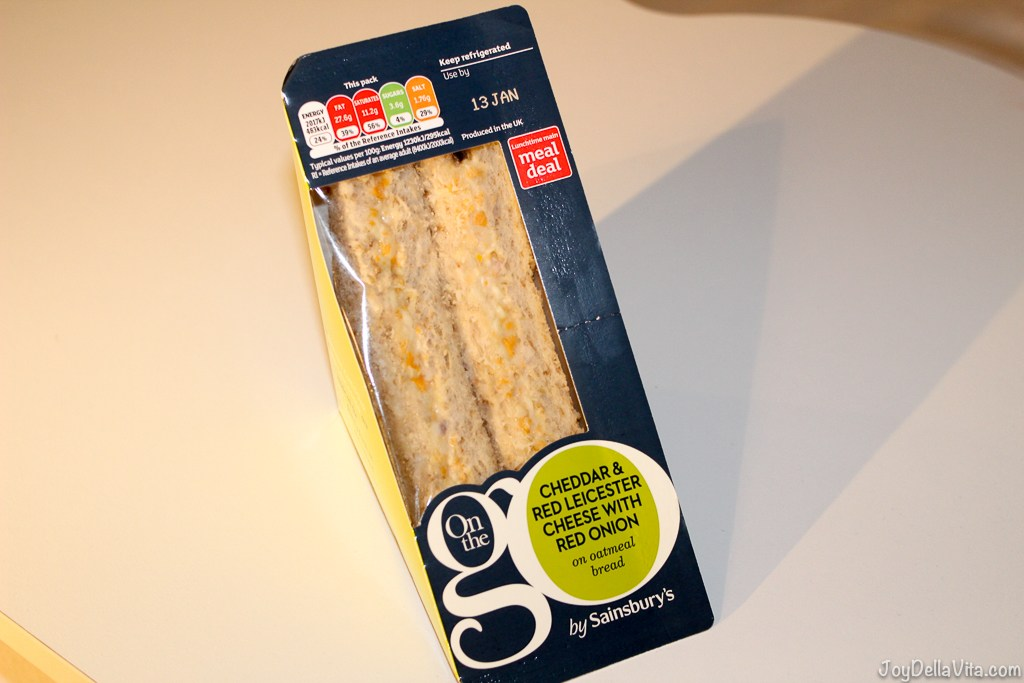sandwich: (256, 1, 745, 683)
